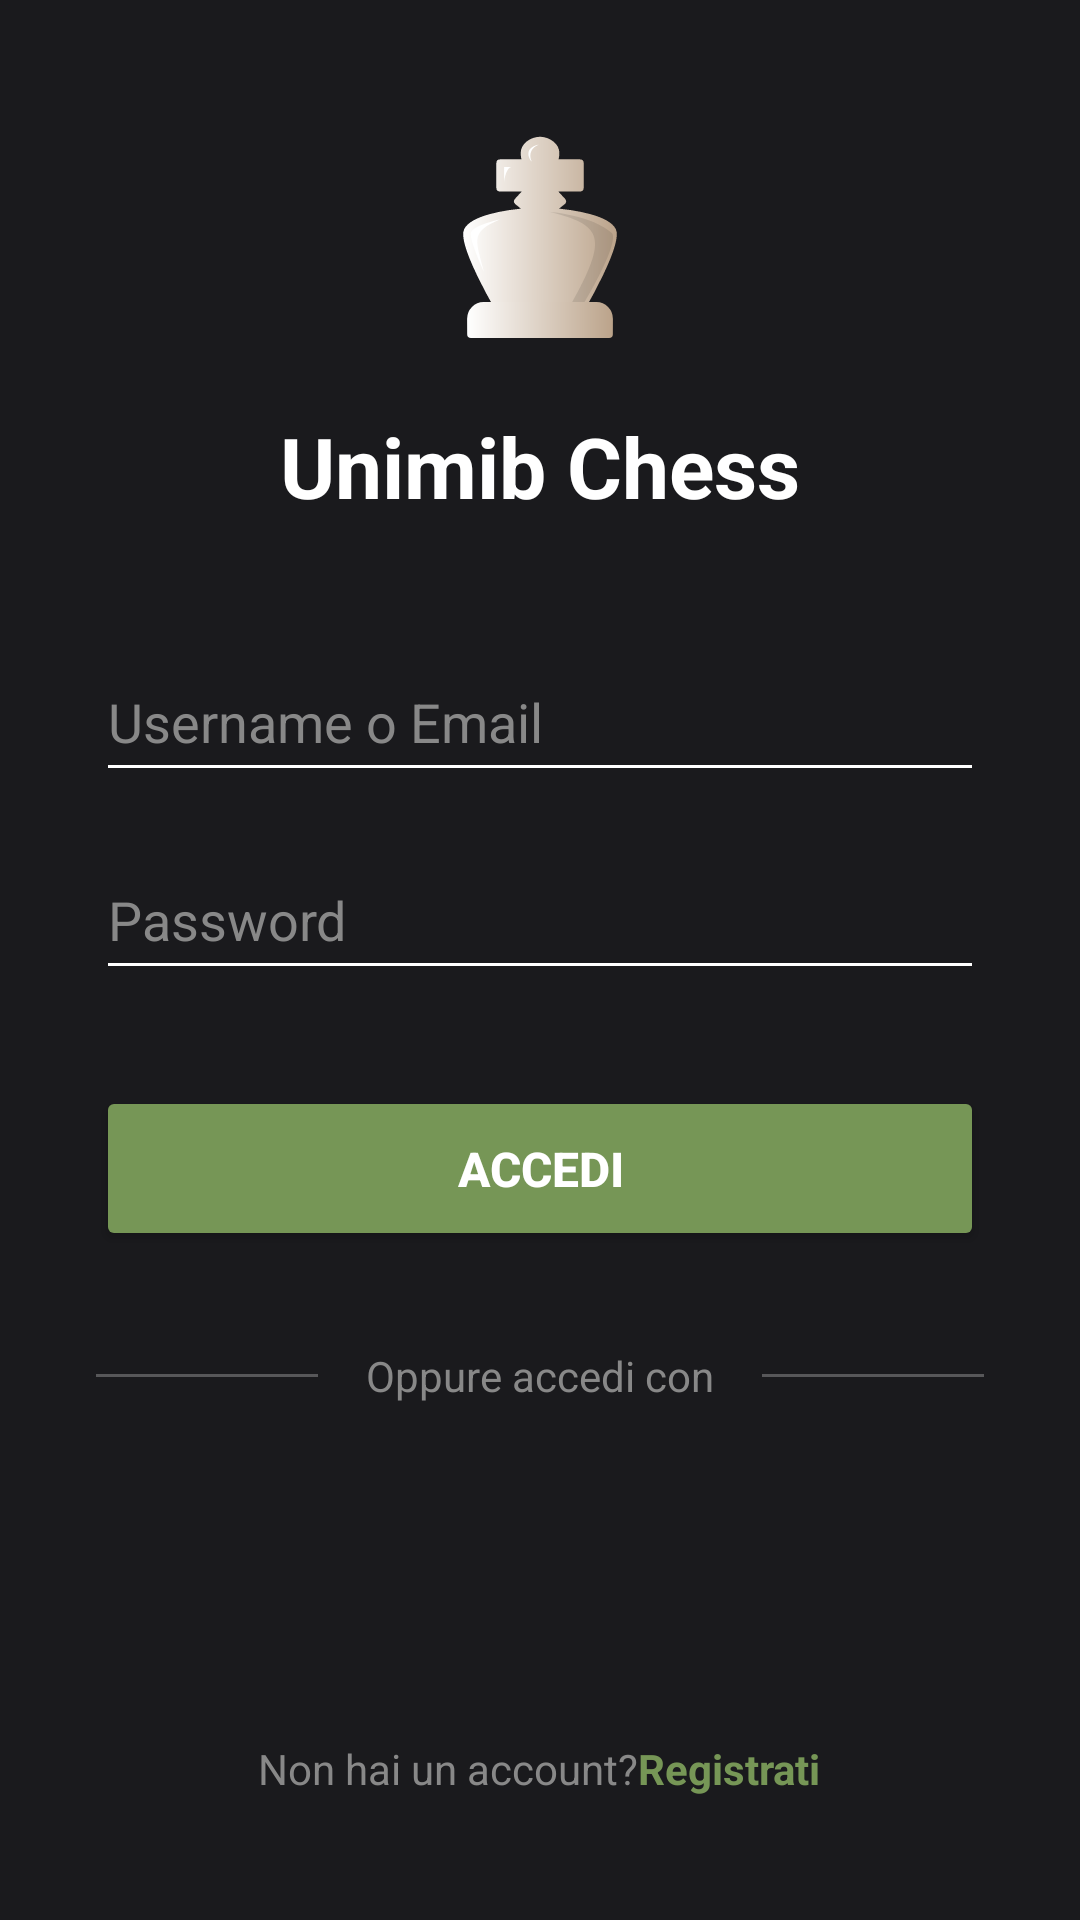

Screen size 1080px x 1920px. Icon name, then its box in pixels as bbox(x1, y1, x2, y2):
king: bbox(463, 136, 617, 338)
